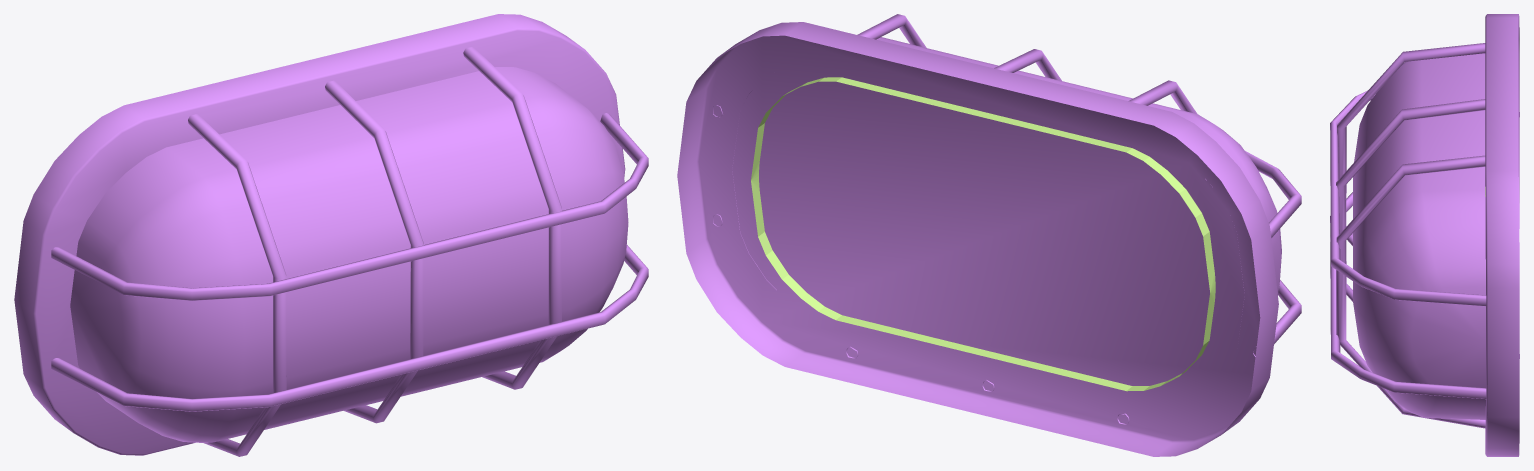
Rendered from BunkerLight.FBX.
The picture shows the model from 3 angles, left to right: view 1: azimuth 30°, elevation 25°; view 2: azimuth 150°, elevation 25°; view 3: azimuth 270°, elevation 25°; orthographic projection. The views are drawn at different scales.
Visible parts, largest first — view 1: Bunker Light; view 2: Bunker Light, Light; view 3: Bunker Light.
Boxes of the visible parts, x1,y1,x2,y2 form: Bunker Light: [14, 14, 648, 456]; Bunker Light: [677, 14, 1301, 456]; Light: [751, 77, 1215, 391]; Bunker Light: [1330, 14, 1519, 456].
Size of the model in its own units: 56.5 by 30.69 by 18.71.
